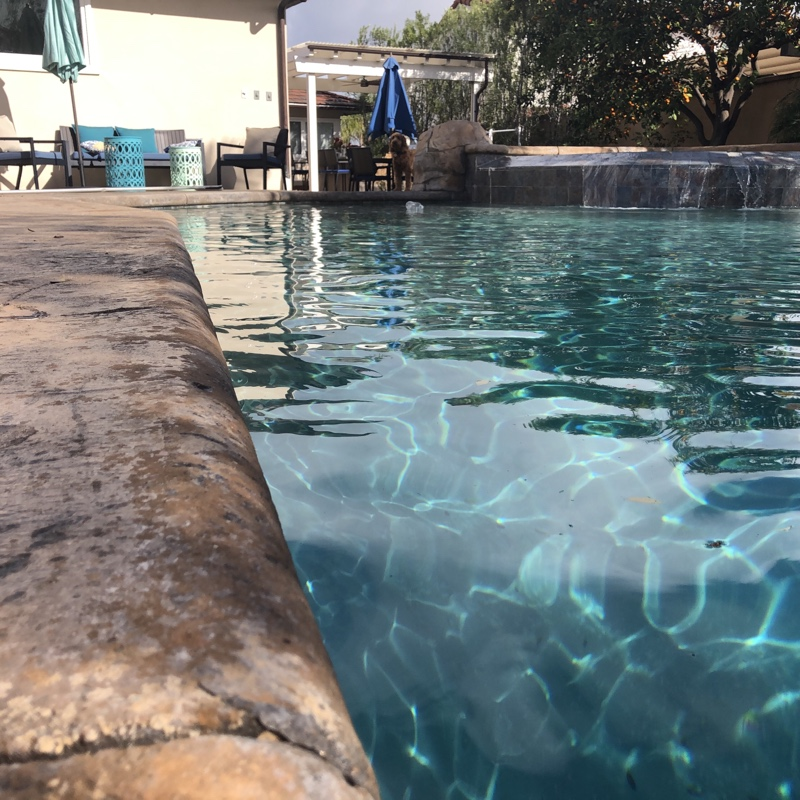Plastic Bottle: (406, 197, 427, 220)
